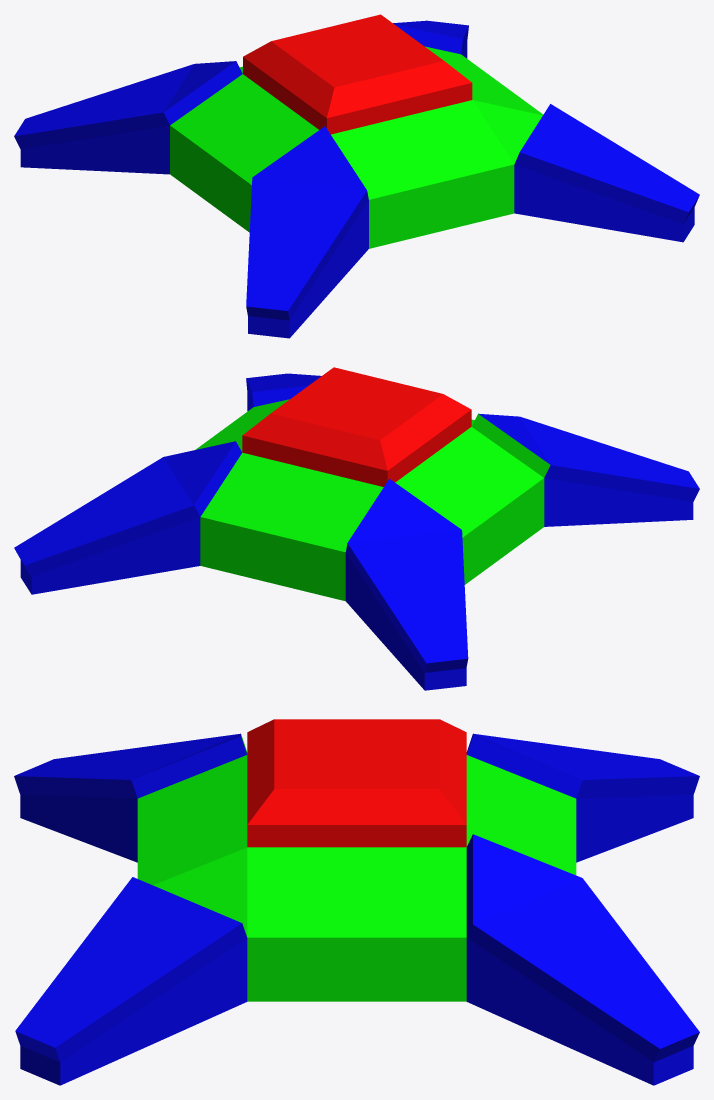
The model's file is ShipBody.fbx.
The picture shows the model from 3 angles, top to bottom: view 1: azimuth 30°, elevation 25°; view 2: azimuth 150°, elevation 25°; view 3: azimuth 270°, elevation 25°; orthographic projection. The views are drawn at different scales.
Parts seen in each view (by area): view 1: Cube.007; view 2: Cube.007; view 3: Cube.007.
Boxes of the visible parts, bbox=[...] form: Cube.007: bbox=[14, 14, 699, 338]; Cube.007: bbox=[14, 367, 699, 690]; Cube.007: bbox=[14, 719, 699, 1085].
Size of the model in its own units: 1.56 by 0.476 by 1.56.
